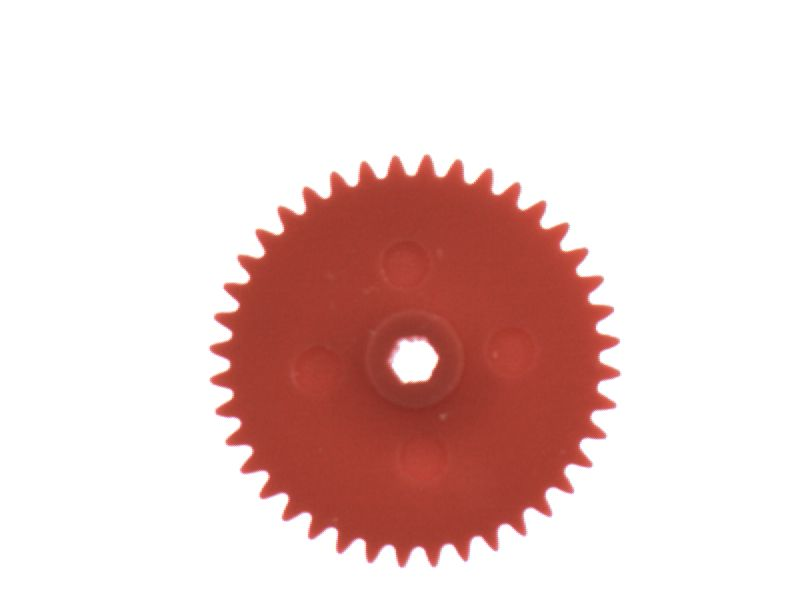good_product: (192, 141, 635, 579)
